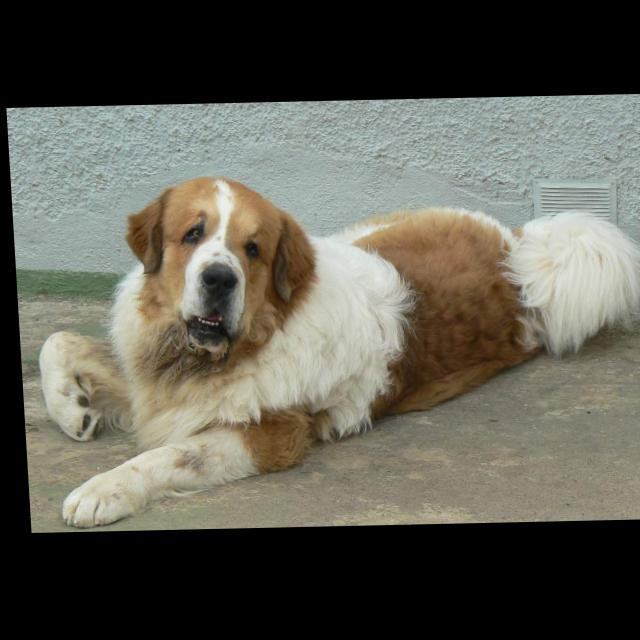other_dog_breed: (26, 168, 640, 529)
